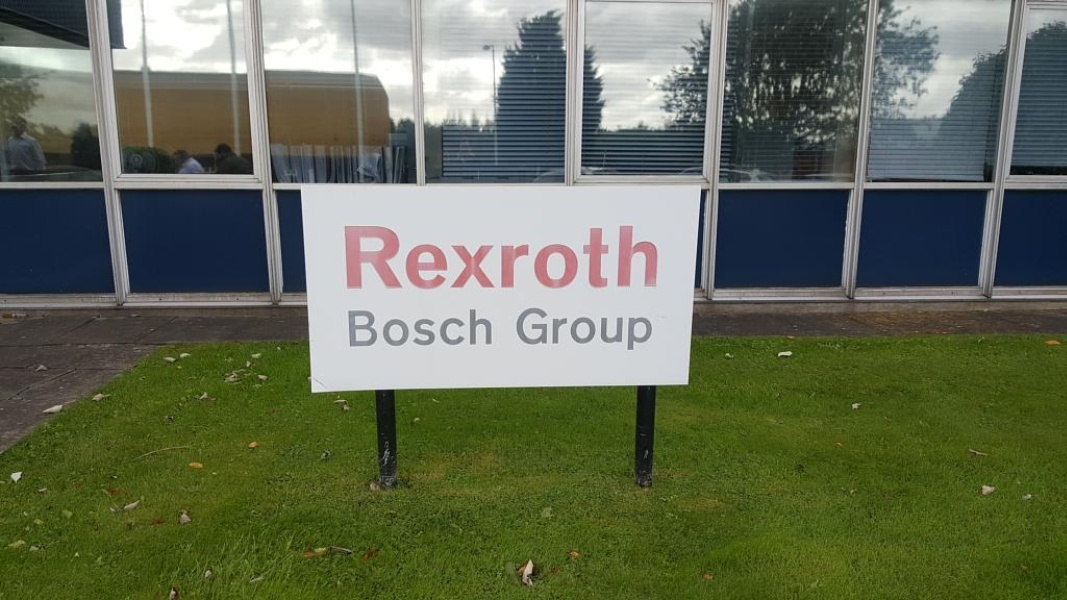text: (353, 224, 368, 289), (369, 224, 384, 289), (385, 224, 400, 289), (401, 224, 416, 289), (417, 224, 432, 289), (433, 224, 448, 289), (449, 224, 464, 289), (465, 224, 480, 289), (481, 224, 496, 289), (497, 224, 512, 289), (513, 224, 528, 289), (529, 224, 544, 289), (545, 224, 560, 289), (561, 224, 576, 289), (577, 224, 592, 289), (593, 224, 608, 289), (609, 224, 624, 289), (625, 224, 640, 289), (641, 224, 656, 289), (529, 307, 544, 352), (545, 307, 560, 352), (561, 307, 576, 352), (577, 307, 592, 352), (593, 307, 608, 352), (609, 307, 624, 352), (625, 307, 640, 352), (353, 308, 368, 348), (369, 308, 384, 348), (385, 308, 400, 348), (401, 308, 416, 348), (417, 308, 432, 348), (433, 308, 448, 348), (449, 308, 464, 348), (465, 308, 480, 348), (641, 307, 654, 352), (516, 307, 528, 352), (344, 224, 352, 289), (481, 308, 493, 348), (347, 308, 352, 348), (657, 224, 659, 289)
